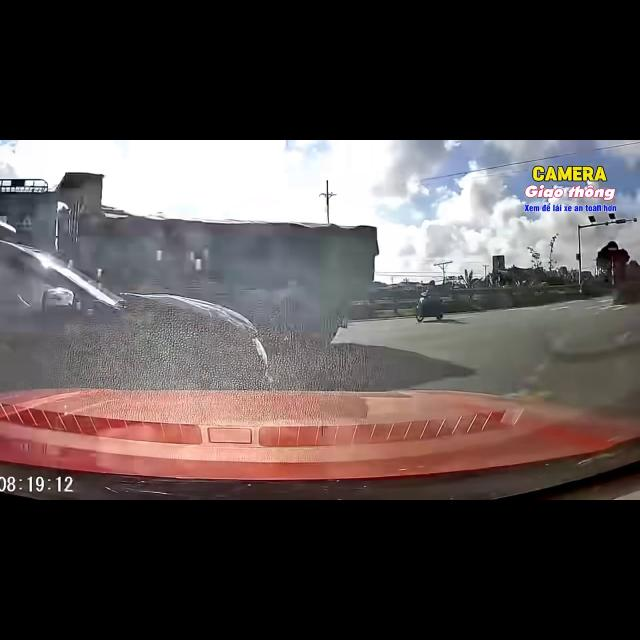car: (0, 241, 273, 389)
motorcycle: (416, 293, 444, 322)
truck: (0, 173, 378, 347), (78, 208, 378, 346)
